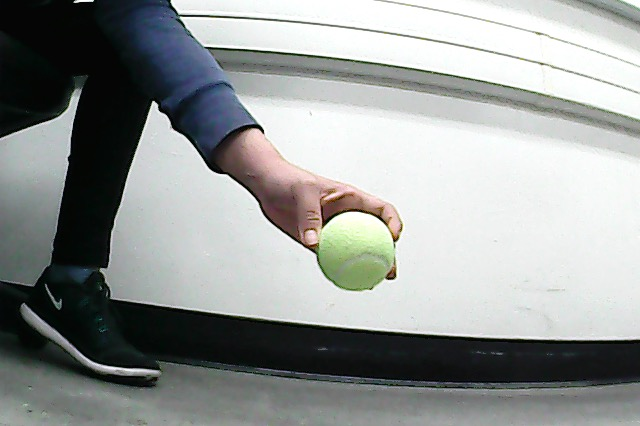ball: (312, 210, 400, 294)
